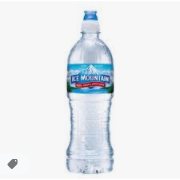Bottle: (66, 10, 116, 174)
